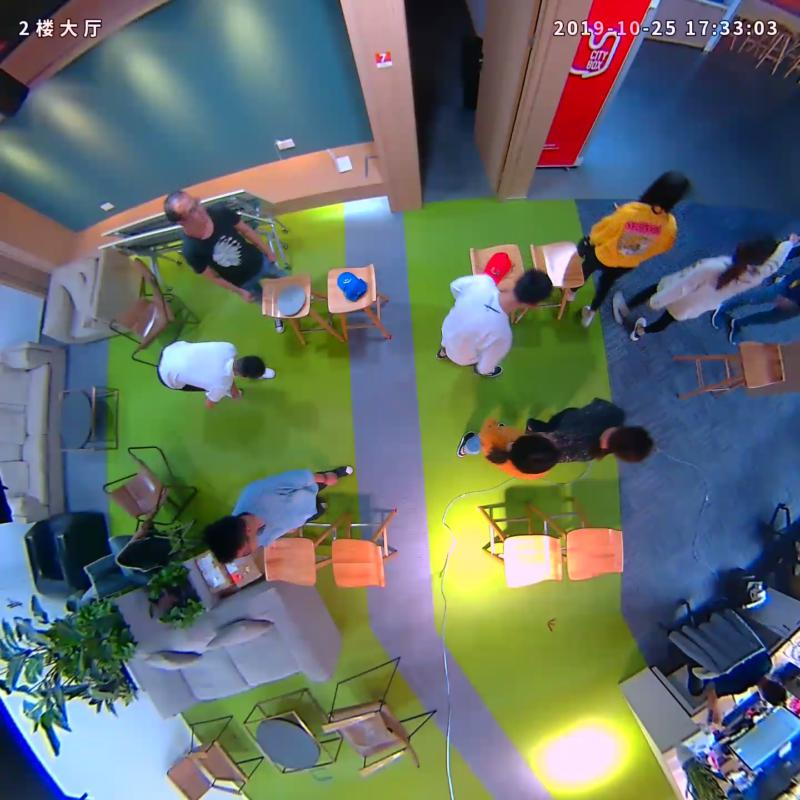head: (196, 511, 261, 564), (600, 417, 661, 471), (503, 425, 566, 477), (499, 262, 564, 312), (634, 165, 699, 214), (155, 187, 213, 239), (727, 225, 783, 270), (225, 348, 269, 387)
